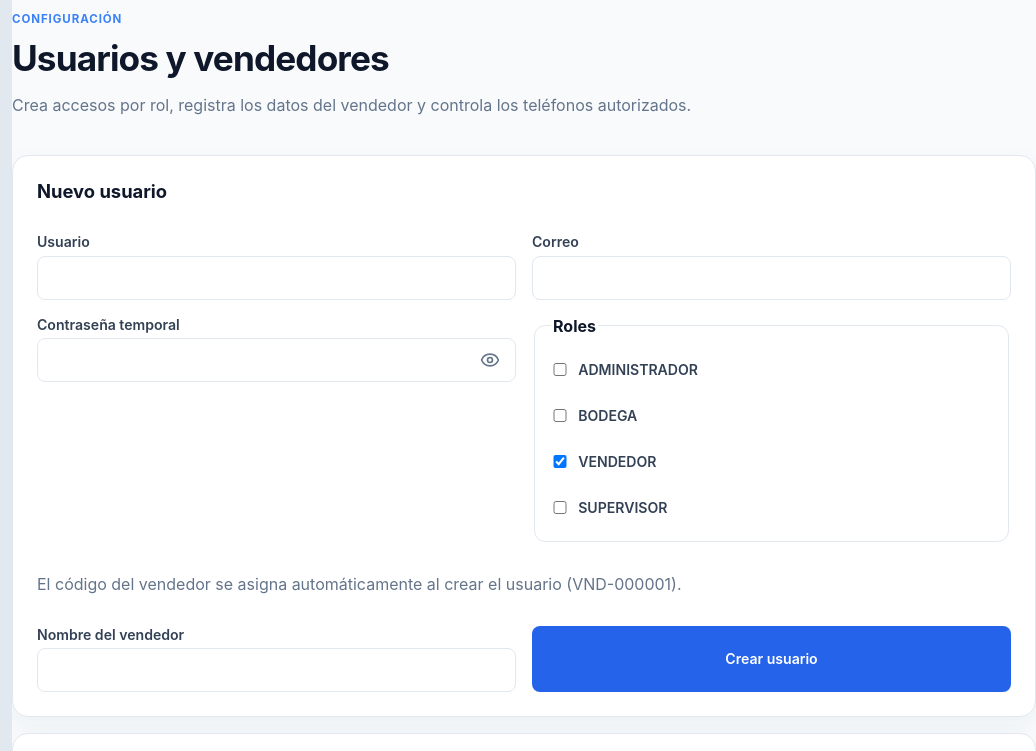
Test: AdministrationPage › permite alternar la visibilidad de la contraseña temporal con el icono de ojo
Step 1. Click the button named "mostrar contraseña" → (490, 360), box [472,342,508,378]
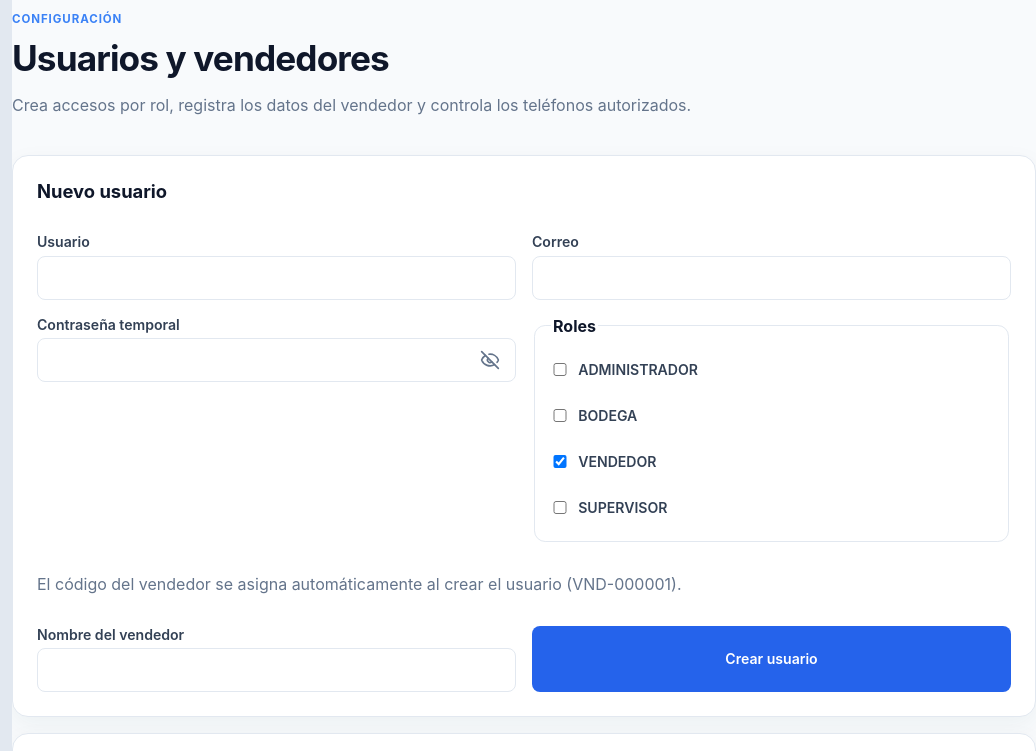
Result: the button named "ocultar contraseña" is shown
Step 2. Click the button named "ocultar contraseña" → (490, 360), box [472,342,508,378]
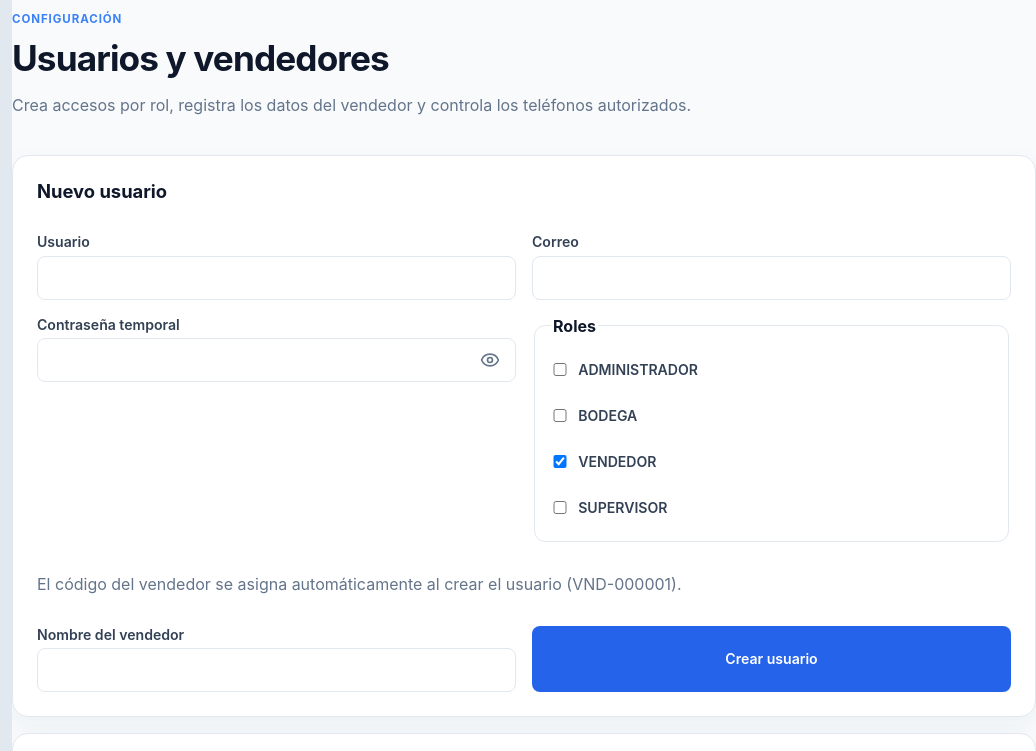
Result: the button named "mostrar contraseña" is shown at [472,342,508,378]
